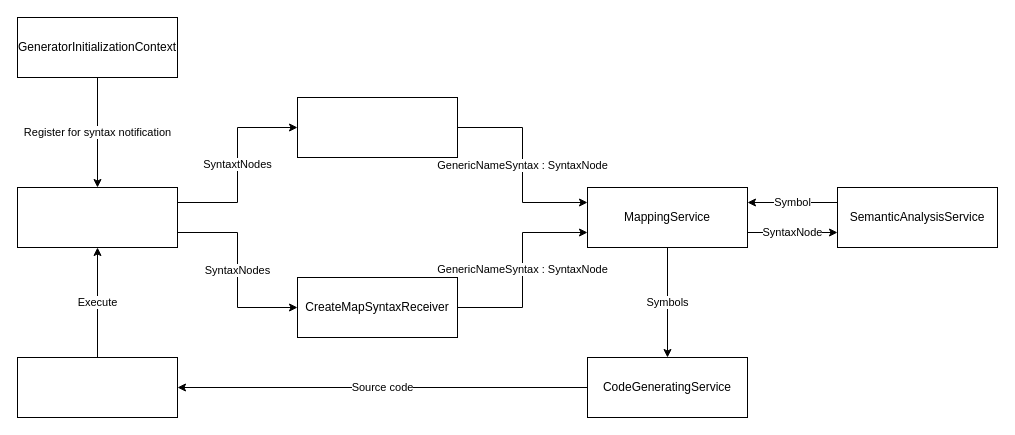
The diagram is 1015 pixels wide and 435 high, and some of its shapes have lost their labels. The box of each missing label's shape, as (x1, y1, x2, y2) in pixels:
GeneratorExecutionContext: (16, 356, 178, 418)
MapSyntaxReceiver: (296, 96, 458, 158)
SyntaxReceivingSevrvice: (16, 186, 178, 248)
